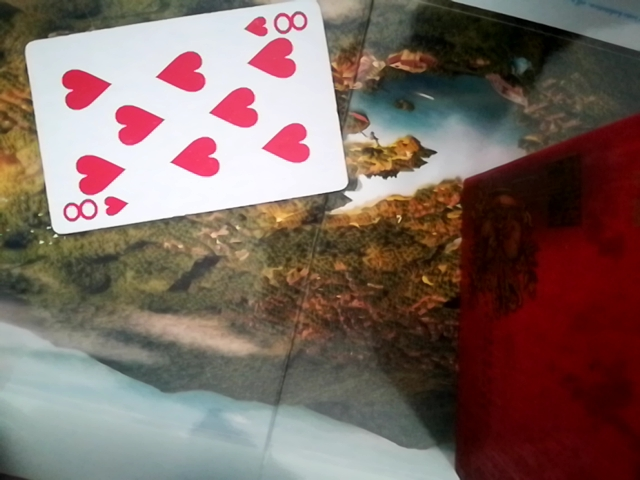hx 8: (23, 0, 342, 235)
